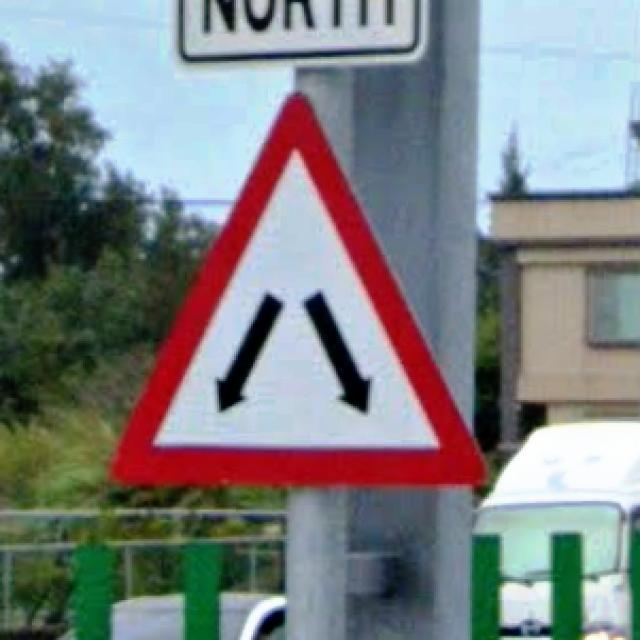diverge: (106, 89, 489, 492)
